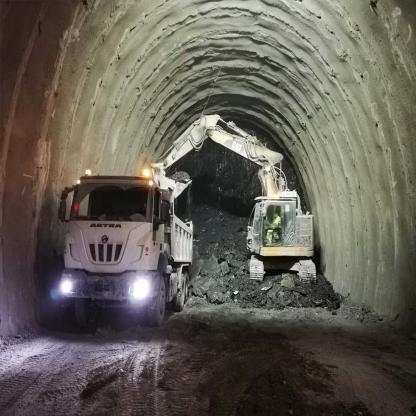dump_truck: (47, 152, 222, 345)
excavator: (149, 104, 339, 293)
